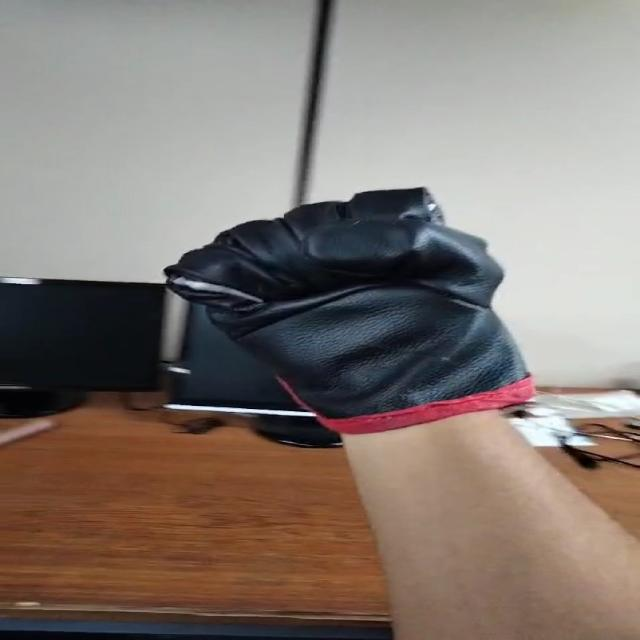Gloves: (159, 189, 536, 436)
